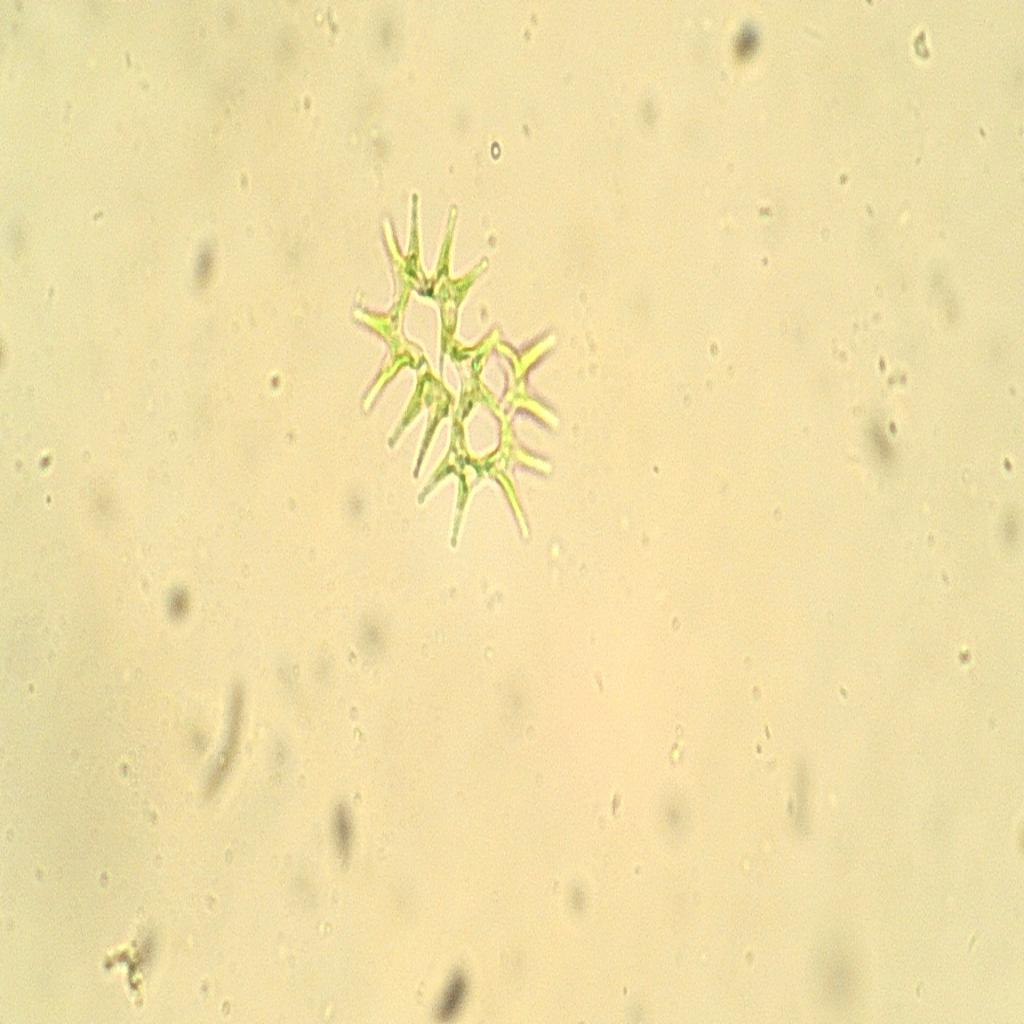Pediastrum_1TH: (324, 158, 586, 585)
